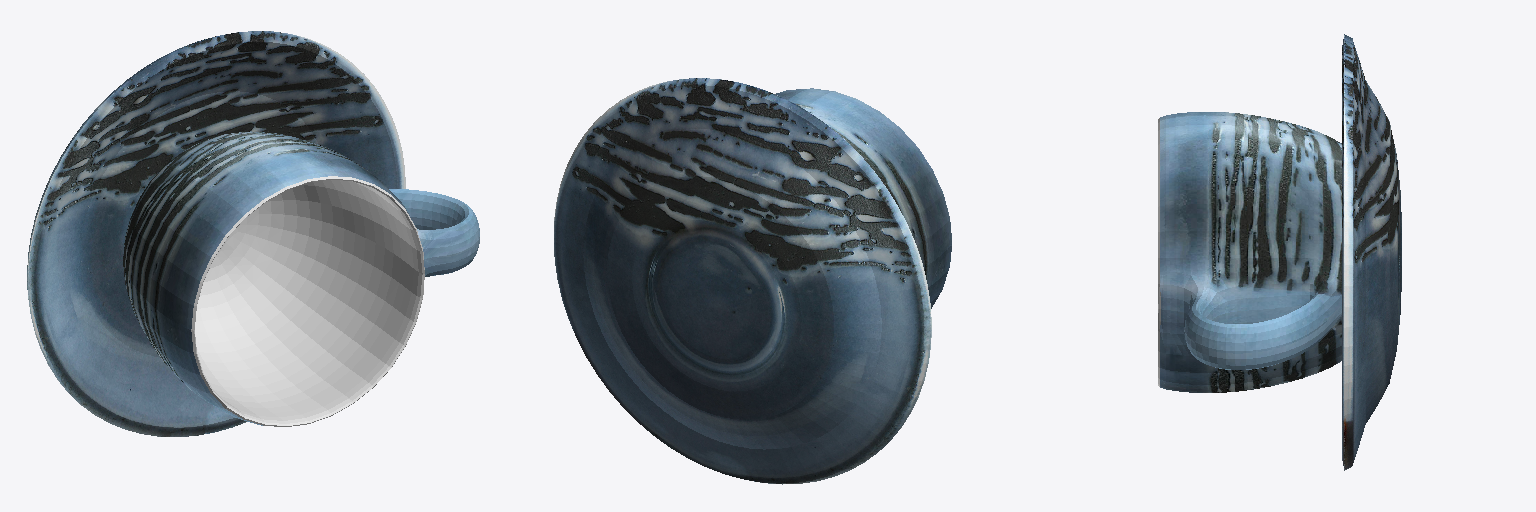
The picture shows the model from 3 angles: view 1: azimuth 30°, elevation 25°; view 2: azimuth 150°, elevation 25°; view 3: azimuth 270°, elevation 25°; orthographic projection.
Parts seen in each view (by area): view 1: EspressoCupBlackWave1, EspressoCupDishBlackWave; view 2: EspressoCupDishBlackWave, EspressoCupBlackWave1; view 3: EspressoCupBlackWave1, EspressoCupDishBlackWave.
Boxes of the visible parts, x1,y1,x2,y2 form: EspressoCupBlackWave1: [123, 131, 479, 426]; EspressoCupDishBlackWave: [27, 31, 405, 436]; EspressoCupDishBlackWave: [554, 78, 931, 484]; EspressoCupBlackWave1: [776, 88, 951, 308]; EspressoCupBlackWave1: [1158, 112, 1341, 392]; EspressoCupDishBlackWave: [1342, 34, 1401, 470].
Size of the model in its own units: 59.28 by 57.17 by 31.9.
Materials: 4 (3 with a texture image).